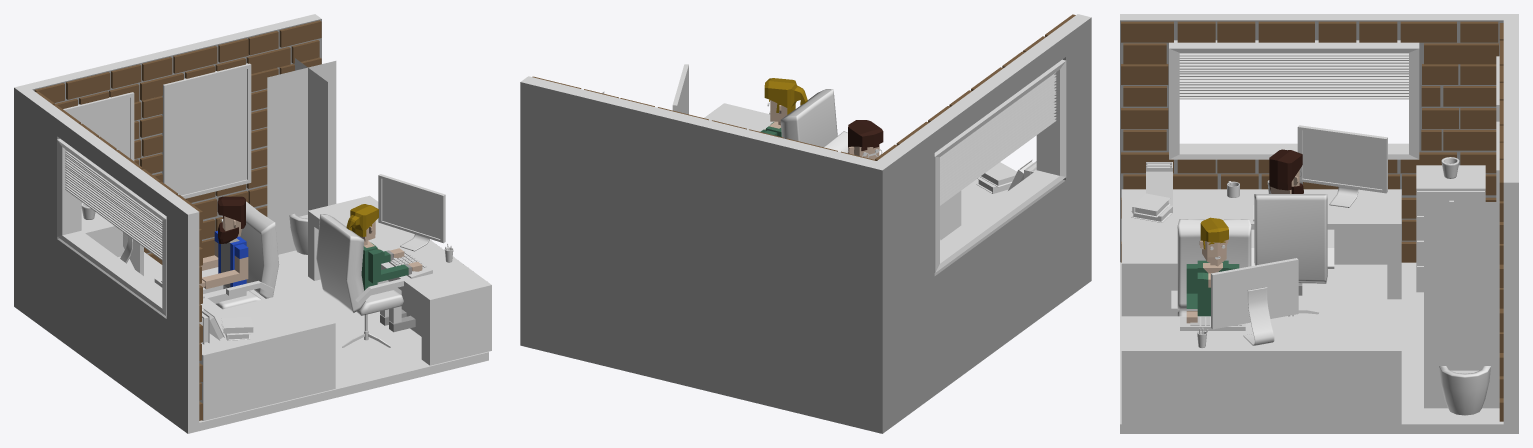
File: Asset  room2.fbx
3 views of the same model, side by side, from view 1: azimuth 30°, elevation 25°; view 2: azimuth 150°, elevation 25°; view 3: azimuth 270°, elevation 25° (orthographic). The views are drawn at different scales.
Visible parts, largest first — view 1: Cube.003, Cube.016, Plane.006, Plane.023, Plane.013, Plane.009, Cube.004, Circle.005, Plane.014, Plane.010, Cube.005, Cube.056 (+9 smaller); view 2: Cube.003, Cube.004, Plane.014, Circle.005, Cube.056, Cube.005, Plane.009, Cube.026, Cube.017, Plane.008, Plane.006, Plane.010; view 3: Plane.009, Cube.017, Cube.003, Plane.023, Plane.006, Plane.014, Cube.004, Circle.000, Plane.010, Plane.008, Cube.007, Circle.005 (+7 smaller).
Boxes of the visible parts, x1,y1,x2,y2 form: Cube.003: [14, 14, 488, 433]; Cube.016: [34, 20, 321, 264]; Plane.006: [118, 252, 335, 420]; Plane.023: [267, 58, 336, 254]; Plane.013: [162, 63, 251, 198]; Plane.009: [308, 195, 491, 365]; Cube.004: [57, 138, 166, 315]; Circle.005: [316, 214, 403, 347]; Plane.014: [65, 149, 162, 260]; Plane.010: [378, 174, 445, 251]; Cube.005: [199, 196, 248, 303]; Cube.056: [346, 204, 422, 332]; Cube.003: [520, 14, 1091, 433]; Cube.004: [934, 59, 1066, 272]; Plane.014: [940, 72, 1056, 205]; Circle.005: [780, 89, 837, 146]; Cube.056: [760, 78, 807, 136]; Cube.005: [848, 120, 883, 159]; Plane.009: [704, 103, 774, 131]; Cube.026: [976, 159, 1036, 193]; Cube.017: [875, 14, 1075, 160]; Plane.008: [940, 191, 961, 240]; Plane.006: [961, 179, 1008, 224]; Plane.010: [672, 64, 688, 114]; Plane.009: [1121, 316, 1401, 426]; Cube.017: [1121, 21, 1498, 262]; Cube.003: [1120, 14, 1518, 433]; Plane.023: [1424, 202, 1499, 408]; Plane.006: [1121, 189, 1401, 316]; Plane.014: [1179, 53, 1408, 99]; Cube.004: [1169, 40, 1419, 159]; Circle.000: [1251, 194, 1334, 316]; Plane.010: [1211, 258, 1298, 345]; Plane.008: [1297, 125, 1387, 207]; Cube.007: [1416, 165, 1485, 292]; Circle.005: [1171, 219, 1251, 316].
Bounding box in the file's own units: 309 × 212 × 305.
